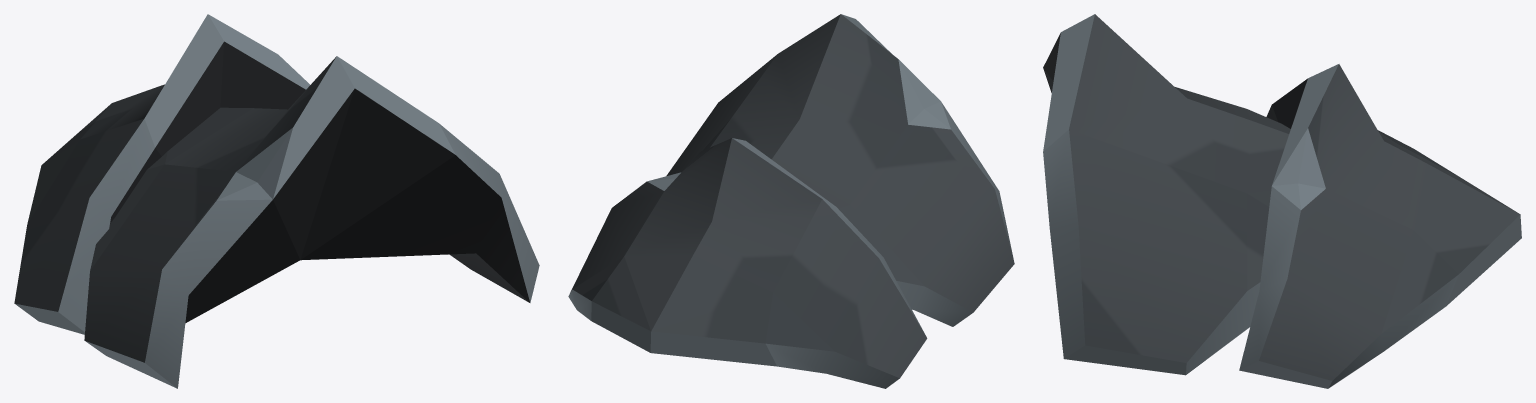
The model's file is SM_Chr_Attach_Armour_Dark_Back_Wolf_01.fbx.
3 views of the same model, side by side, from view 1: azimuth 30°, elevation 25°; view 2: azimuth 150°, elevation 25°; view 3: azimuth 270°, elevation 25° (orthographic). The views are drawn at different scales.
Visible parts, largest first — view 1: SM_Chr_Attach_Armour_Dark_Back_Wolf_01; view 2: SM_Chr_Attach_Armour_Dark_Back_Wolf_01; view 3: SM_Chr_Attach_Armour_Dark_Back_Wolf_01.
Part boxes in pixels (x1,y1,x2,y2): SM_Chr_Attach_Armour_Dark_Back_Wolf_01: (14, 14, 539, 388); SM_Chr_Attach_Armour_Dark_Back_Wolf_01: (568, 14, 1014, 388); SM_Chr_Attach_Armour_Dark_Back_Wolf_01: (1043, 14, 1521, 388).
Size of the model in its own units: 22.96 by 16.78 by 24.65.
